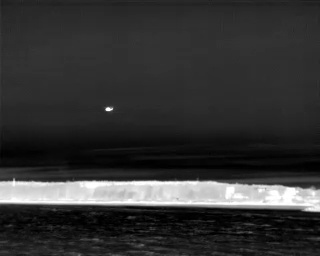HELICOPTER: (101, 103, 117, 117)
